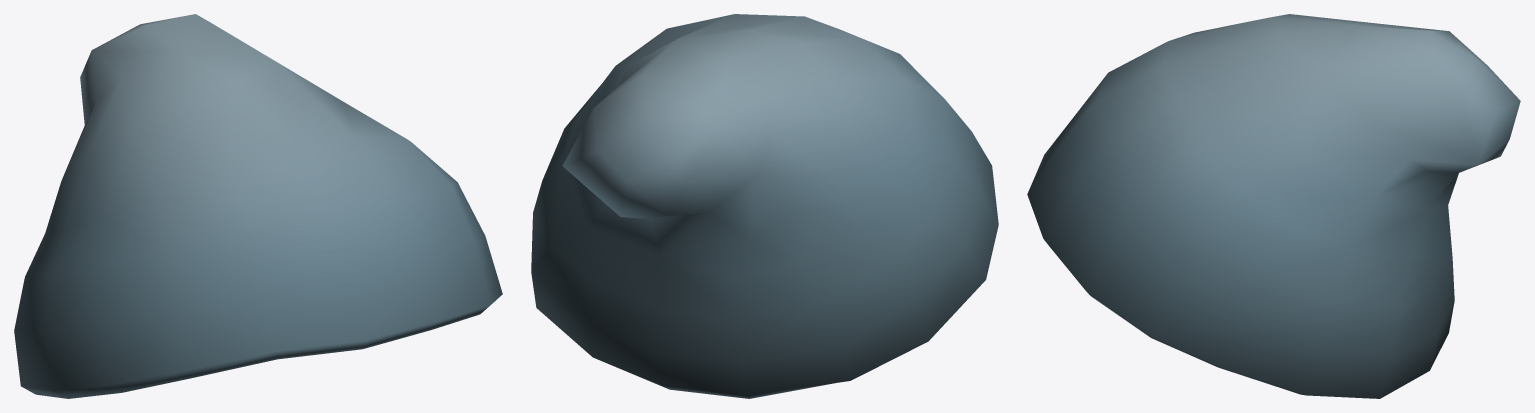
File: Hat_42.glb
3 renders of one model, left to right at view 1: azimuth 30°, elevation 25°; view 2: azimuth 150°, elevation 25°; view 3: azimuth 270°, elevation 25°, orthographic. The views are drawn at different scales.
Visible parts, largest first — view 1: Hat_42; view 2: Hat_42; view 3: Hat_42.
Part boxes in pixels (box(x1,y1,x2,y2)): Hat_42: box(14, 14, 502, 398); Hat_42: box(531, 14, 998, 398); Hat_42: box(1027, 14, 1520, 398).
Bounding box in the file's own units: 0.6488 × 0.4572 × 0.6676.
Materials: 1 (1 with a texture image).
